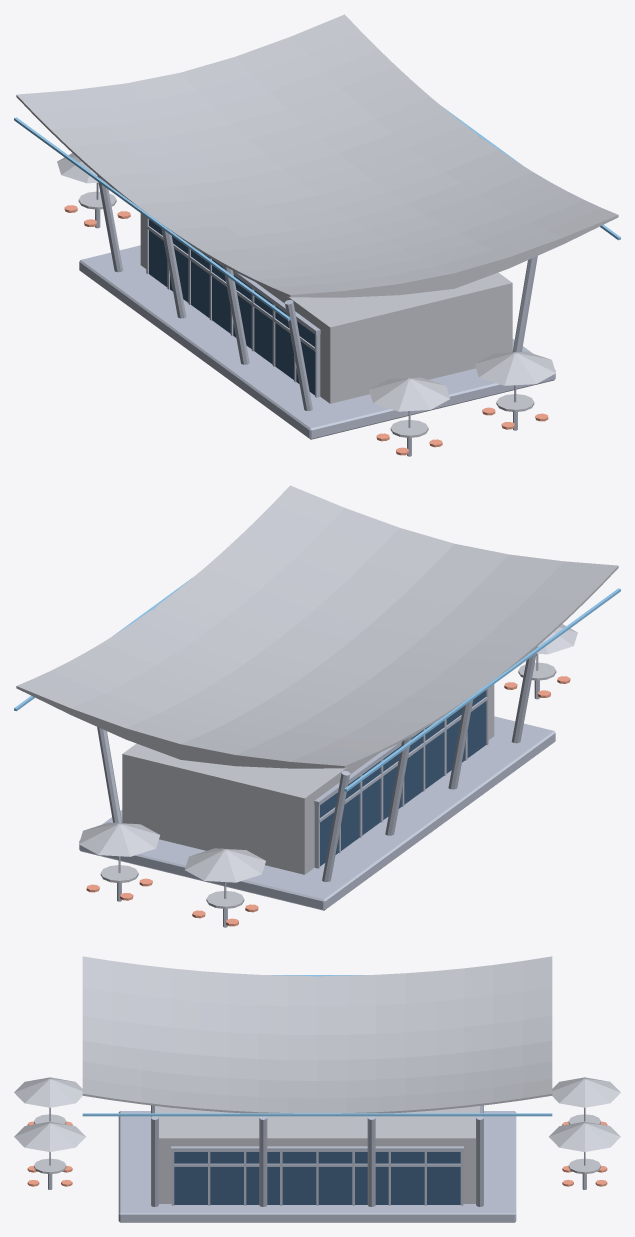
Rendered from terrace.glb.
The picture shows the model from 3 angles, top to bottom: view 1: azimuth 30°, elevation 25°; view 2: azimuth 150°, elevation 25°; view 3: azimuth 270°, elevation 25°; orthographic projection. The views are drawn at different scales.
Parts seen in each view (by area): view 1: terrace_white, terrace_silver, terrace_glass, terrace_blueSoft, terrace_coral; view 2: terrace_white, terrace_silver, terrace_glass, terrace_blueSoft, terrace_coral; view 3: terrace_white, terrace_silver, terrace_glass, terrace_blueSoft, terrace_coral.
Boxes of the visible parts, <box> form: terrace_white: <box>16,14,618,437</box>; terrace_silver: <box>79,175,555,456</box>; terrace_glass: <box>149,219,314,395</box>; terrace_blueSoft: <box>14,106,620,320</box>; terrace_coral: <box>64,205,548,455</box>; terrace_white: <box>16,485,618,908</box>; terrace_silver: <box>79,646,555,927</box>; terrace_glass: <box>320,690,485,866</box>; terrace_blueSoft: <box>14,577,620,791</box>; terrace_coral: <box>86,676,570,926</box>; terrace_white: <box>14,956,620,1203</box>; terrace_silver: <box>48,1105,586,1222</box>; terrace_glass: <box>174,1152,460,1204</box>; terrace_blueSoft: <box>82,975,552,1116</box>; terrace_coral: <box>27,1121,607,1186</box>.
Size of the model in its own units: 18.25 by 8.96 by 33.6.
